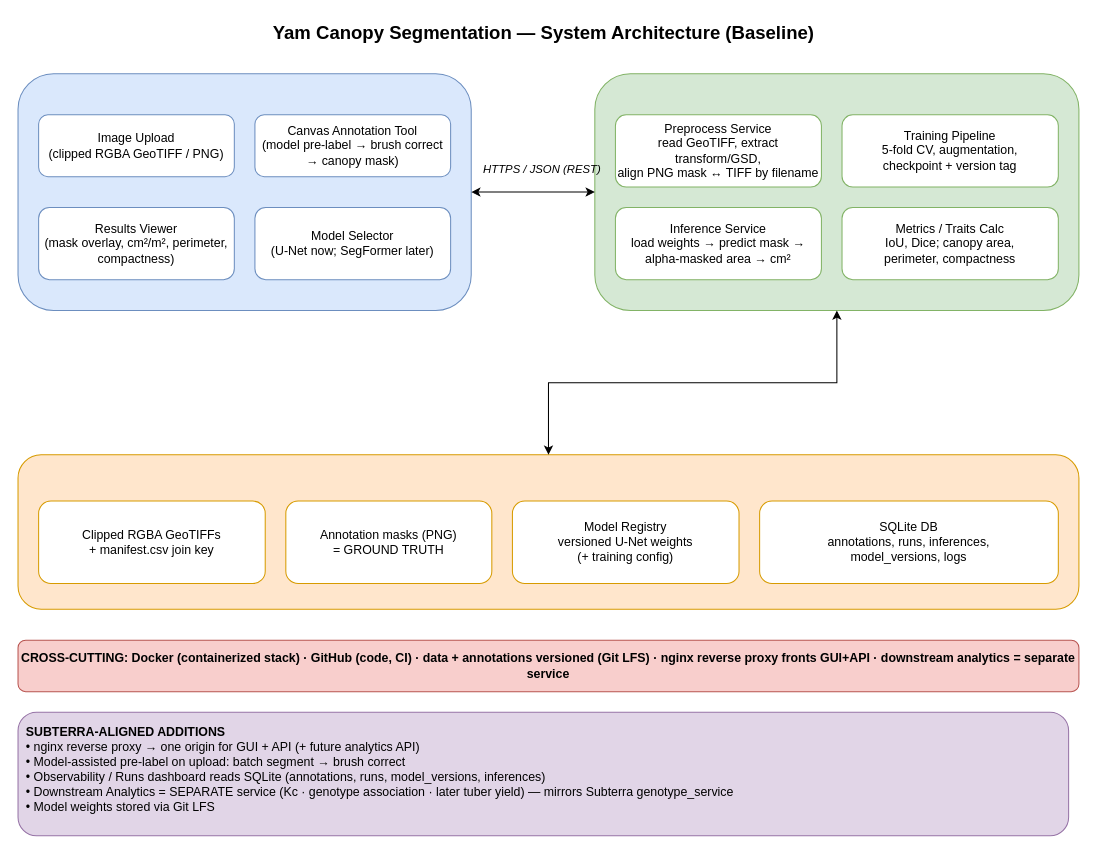
Image size: 1097x854. Some labels were removed from this diagram. Each missing label, with the box of its shape:
BACKEND (Python · FastAPI · PyTorch): (594, 73, 1079, 311)
FRONTEND (React + TypeScript, runs in browser): (17, 73, 471, 311)
STORAGE (local filesystem + DB): (17, 454, 1079, 609)
